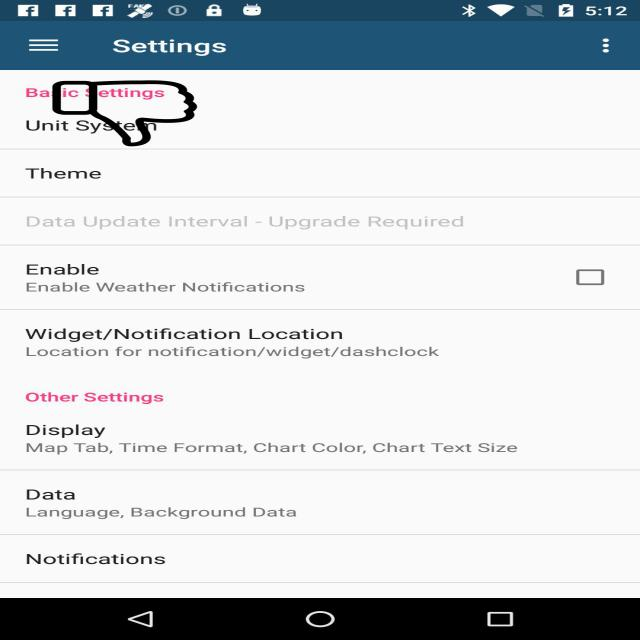obstruction: (50, 80, 199, 146)
